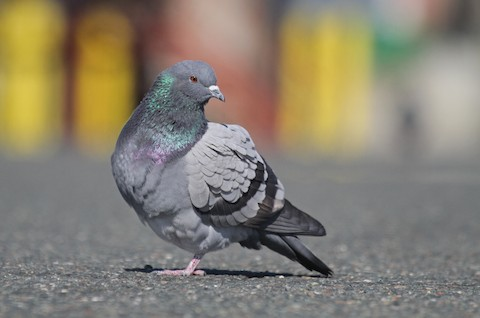pigeon: (110, 57, 334, 277)
